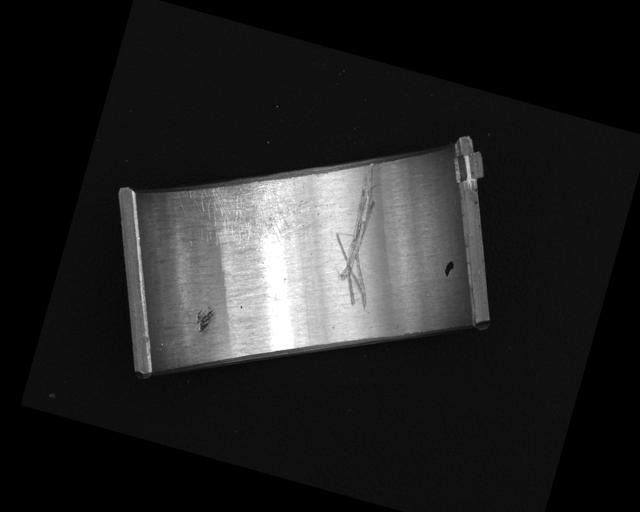blot: (442, 259, 456, 280)
bruise: (190, 304, 216, 336)
nick: (318, 157, 405, 310)
scratch: (173, 153, 314, 271)
